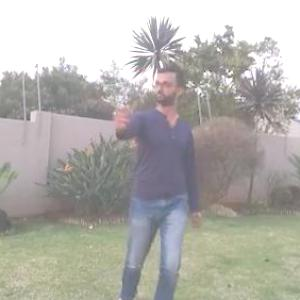takeoff-hand: (107, 97, 138, 135)
